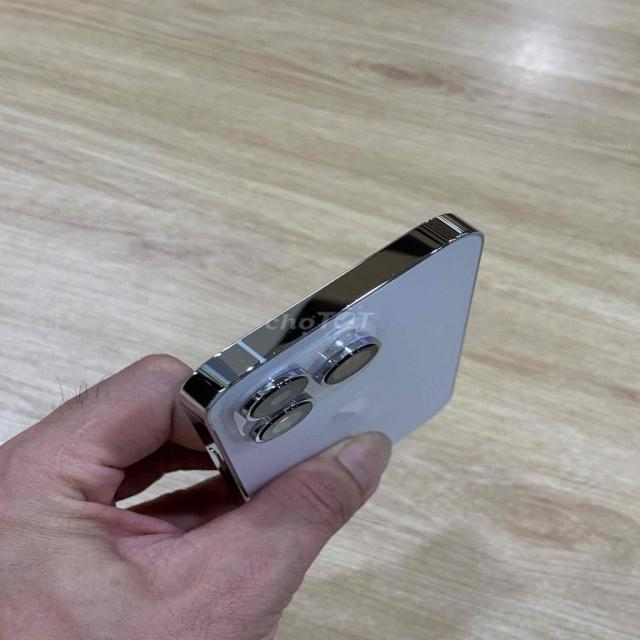gen_14: (171, 209, 494, 509)
